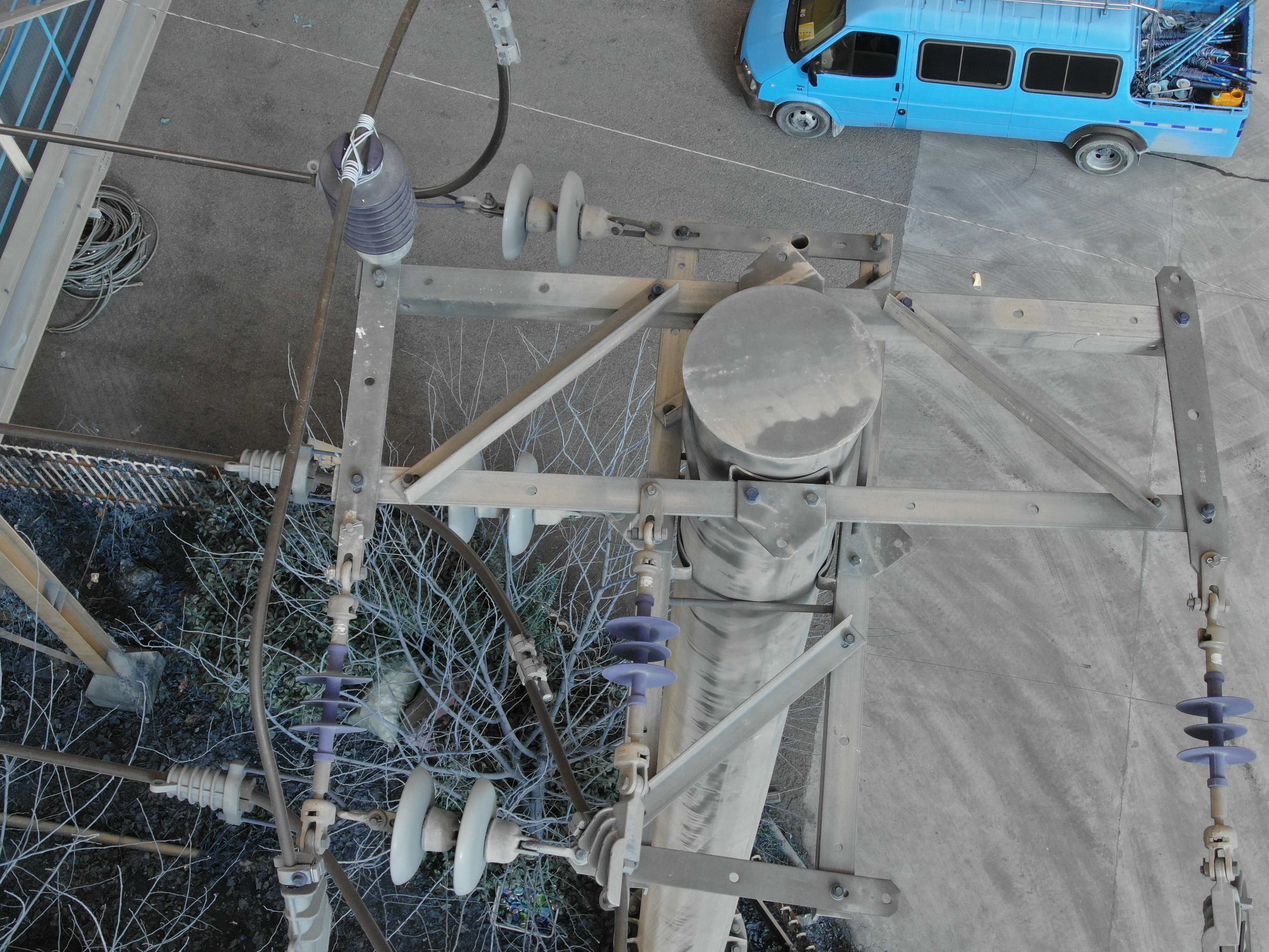severe_soiling_no_discharge_whole: (316, 126, 426, 269)
